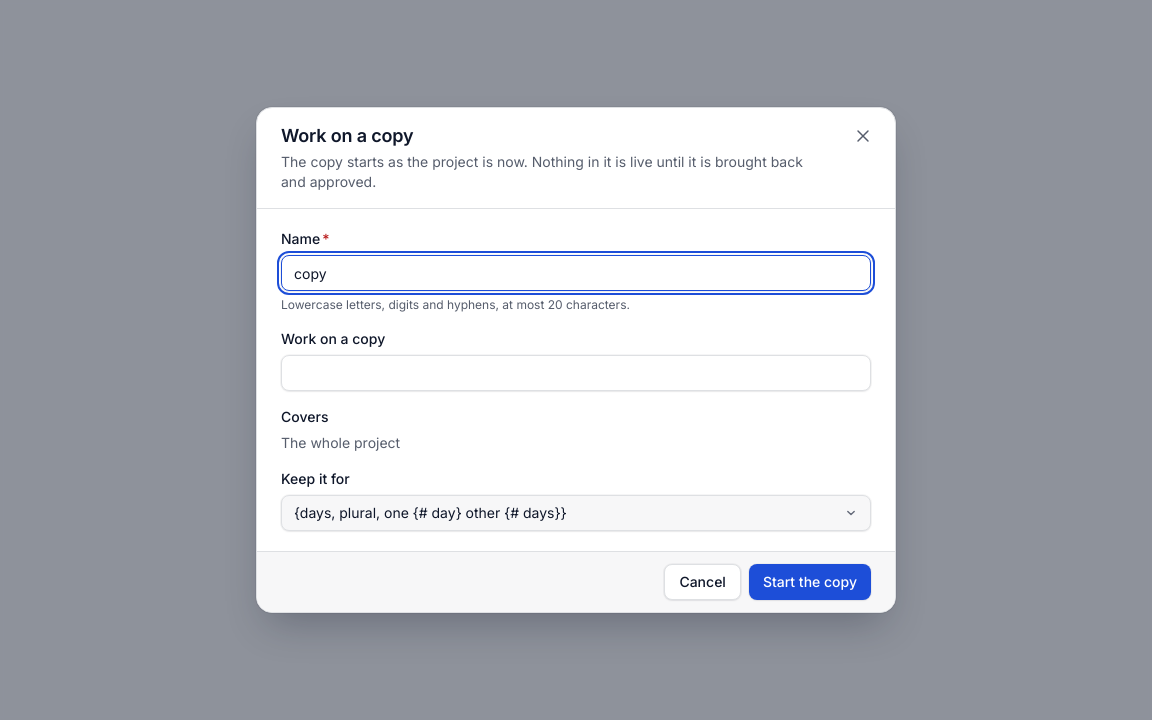
Test case: work on a copy › shows the server's reason and stays open when the name is taken
Click the button "Start the copy" at (810, 582), box [749,564,871,600]
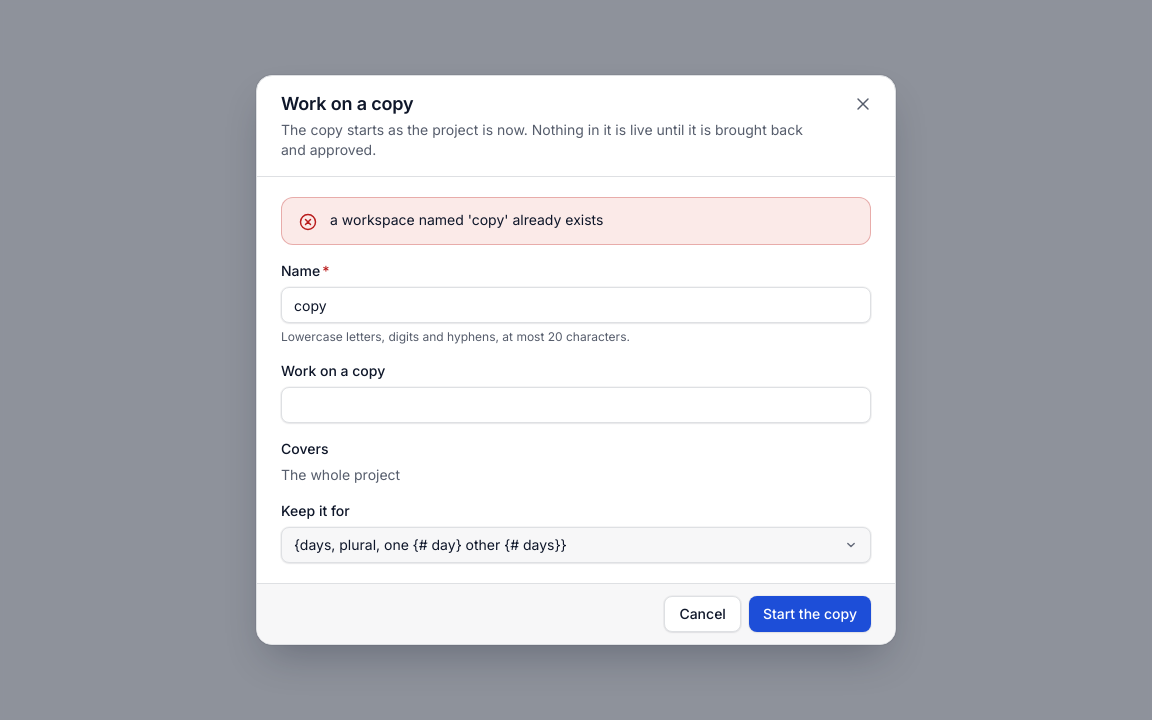
Expected: the text "a workspace named 'copy' already exists" is shown, [330,211,603,228]
